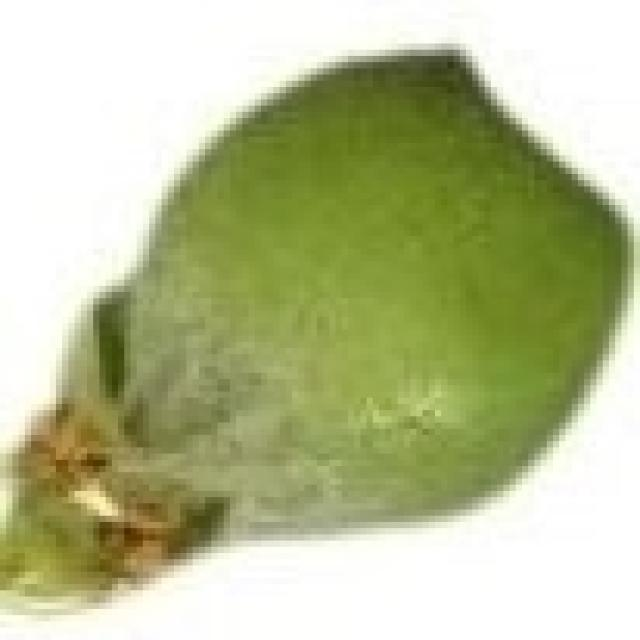20-_ripeness: (0, 47, 629, 602)
